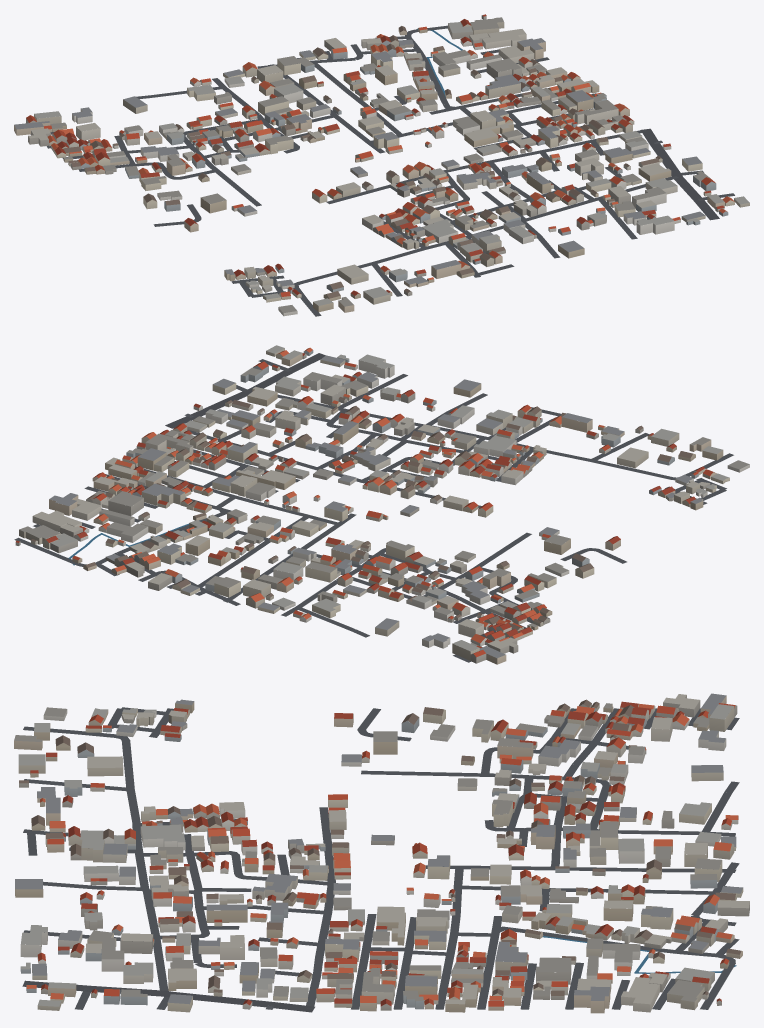
3 views of the same model, one above another, from view 1: azimuth 30°, elevation 25°; view 2: azimuth 150°, elevation 25°; view 3: azimuth 270°, elevation 25° (orthographic). The views are drawn at different scales.
Visible parts, largest first — view 1: buildings_roofs, buildings_walls, roads; view 2: buildings_walls, buildings_roofs, roads; view 3: buildings_roofs, buildings_walls, roads.
Part boxes in pixels (box(x1,y1,x2,y2)): buildings_roofs: box(14, 14, 749, 312); buildings_walls: box(14, 15, 749, 316); roads: box(30, 25, 734, 316); buildings_walls: box(15, 348, 749, 664); buildings_roofs: box(16, 345, 749, 658); roads: box(14, 353, 733, 662); buildings_roofs: box(14, 693, 749, 1006); buildings_walls: box(14, 695, 749, 1013); roads: box(22, 707, 739, 1012).
Bounding box in the file's own units: 518 × 9.82 × 517.
